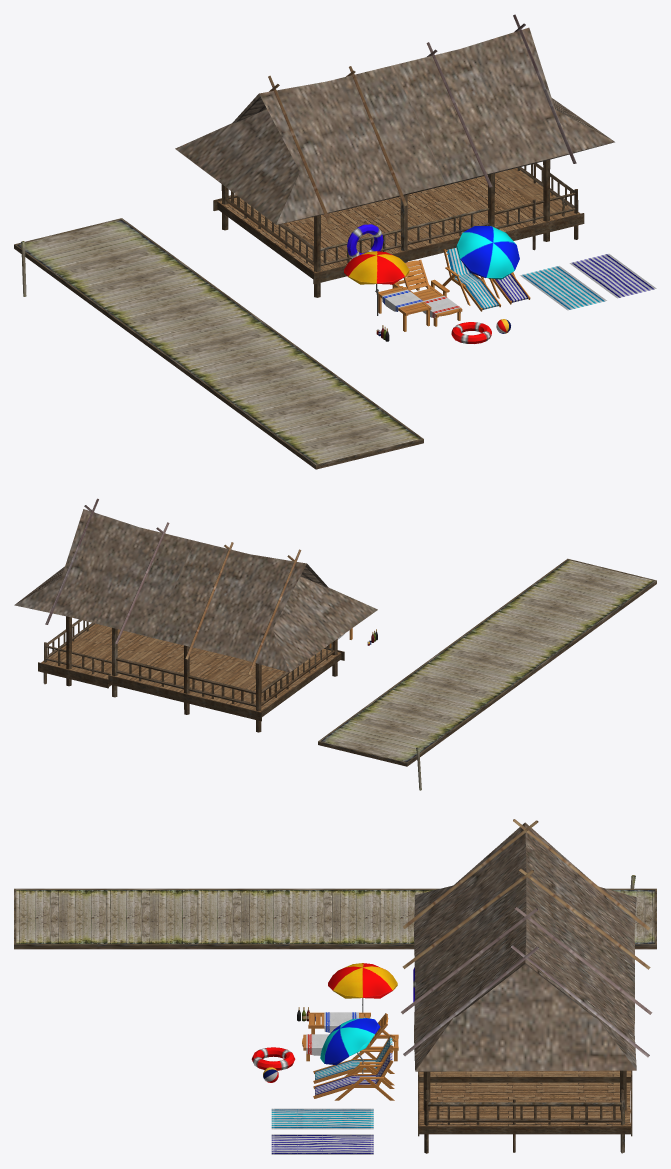
The model's file is BEACH PROPS.fbx.
3 views of the same model, one above another, from view 1: azimuth 30°, elevation 25°; view 2: azimuth 150°, elevation 25°; view 3: azimuth 270°, elevation 25° (orthographic). The views are drawn at different scales.
Parts seen in each view (by area): view 1: Tree1.001, Wood_3, Tree1.009, Tree1.011, Tree1.010, Tree1.002, Tree1.003, Tree1.007, Tree1.004, Tree1.008; view 2: Tree1.001, Wood_3; view 3: Tree1.001, Wood_3, Tree1.010, Tree1.003, Tree1.002, Tree1.007, Tree1.009, Tree1.011, Tree1.004.
Part boxes in pixels (x1,y1,x2,y2): Tree1.001: [175, 14, 614, 297]; Wood_3: [14, 218, 423, 469]; Tree1.009: [376, 259, 462, 331]; Tree1.011: [456, 226, 519, 279]; Tree1.010: [442, 247, 530, 311]; Tree1.002: [569, 254, 656, 298]; Tree1.003: [520, 266, 606, 310]; Tree1.007: [344, 251, 409, 315]; Tree1.004: [451, 322, 491, 343]; Tree1.008: [347, 224, 383, 258]; Tree1.001: [14, 498, 377, 732]; Wood_3: [318, 558, 656, 766]; Tree1.001: [401, 819, 652, 1153]; Wood_3: [14, 888, 656, 949]; Tree1.010: [313, 1034, 394, 1100]; Tree1.003: [271, 1108, 373, 1129]; Tree1.002: [271, 1134, 373, 1154]; Tree1.007: [328, 963, 397, 1012]; Tree1.009: [302, 1012, 398, 1061]; Tree1.011: [320, 1018, 380, 1073]; Tree1.004: [251, 1047, 295, 1070].
Size of the model in its own units: 1501 by 596 by 1596.
Materials: 1 (1 with a texture image).
